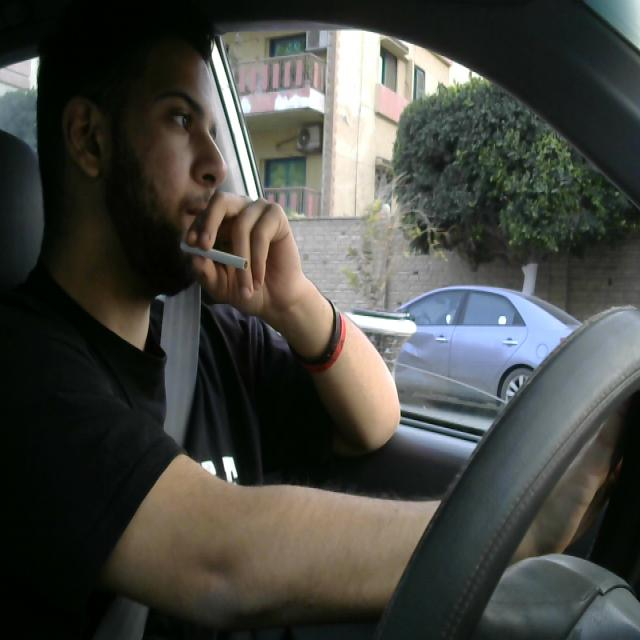smoking: (178, 231, 252, 273)
